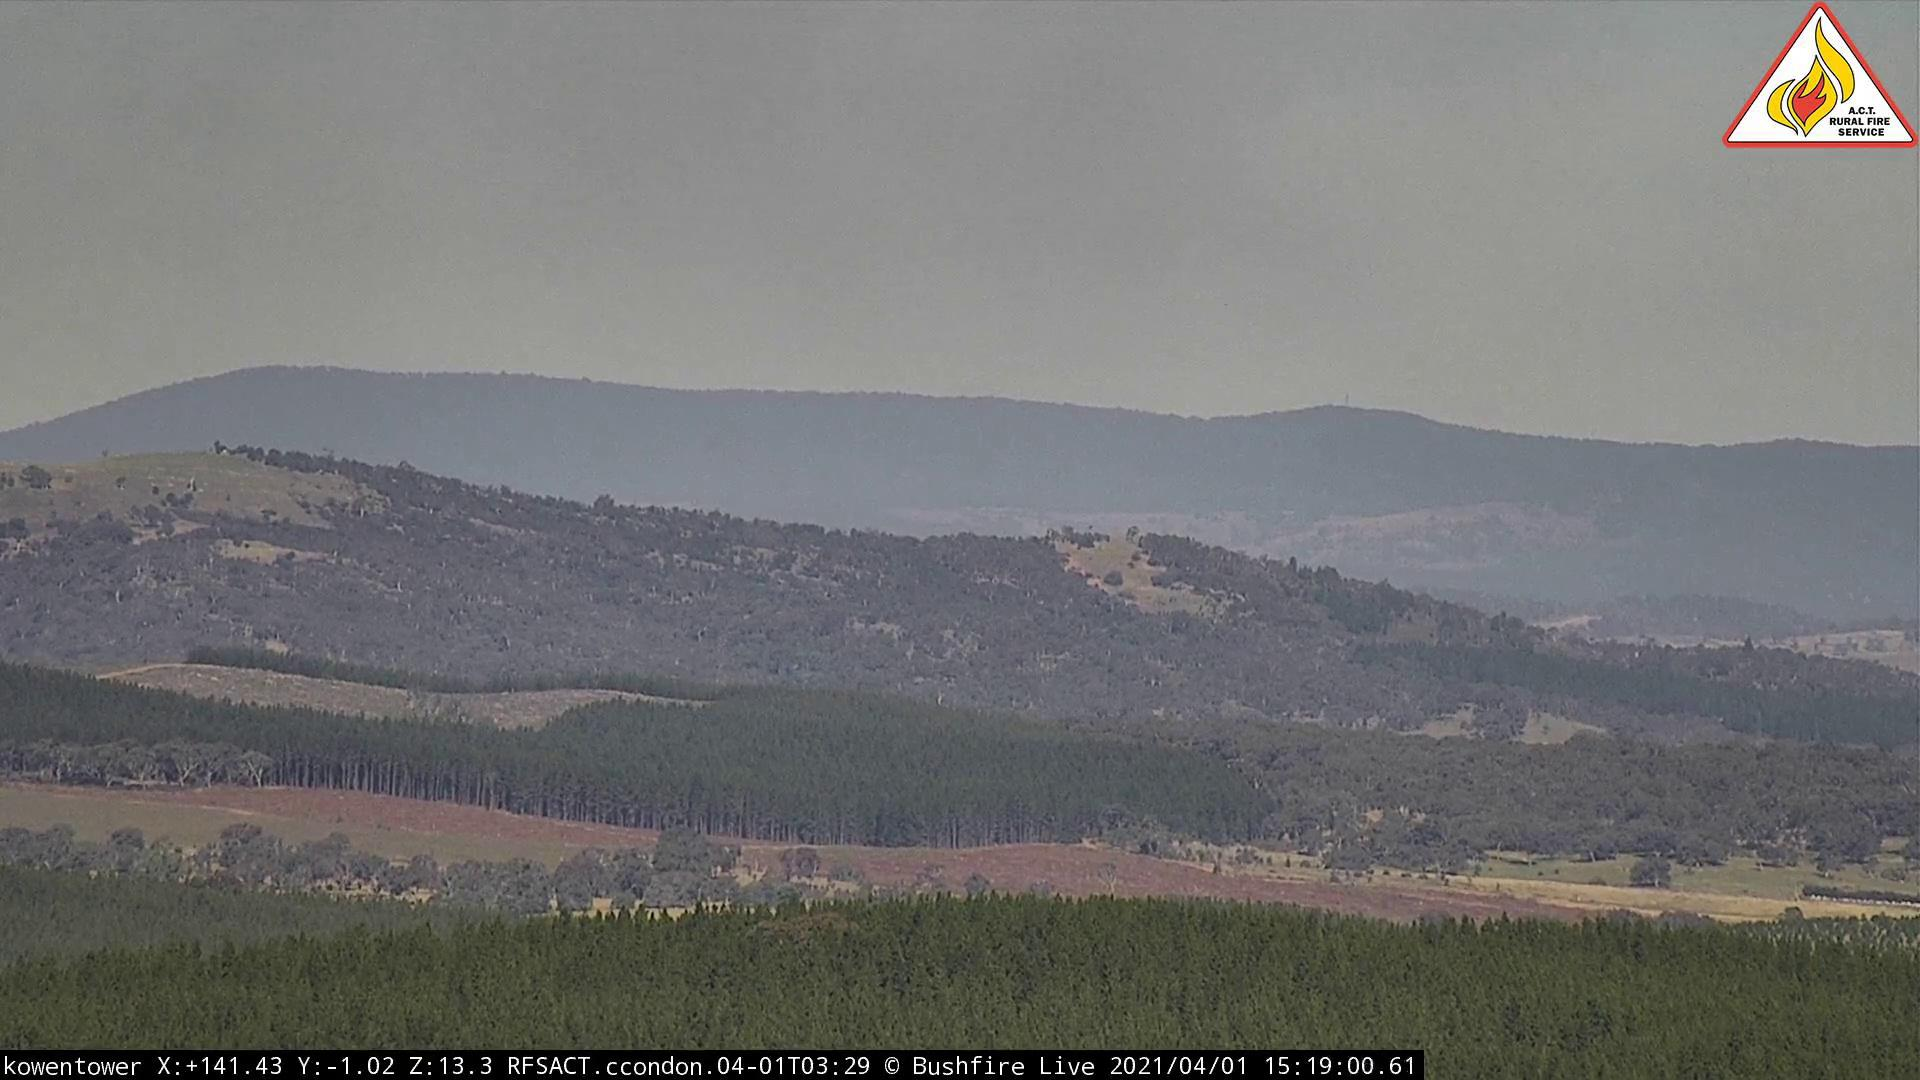Smoke: (516, 76, 1414, 357)
